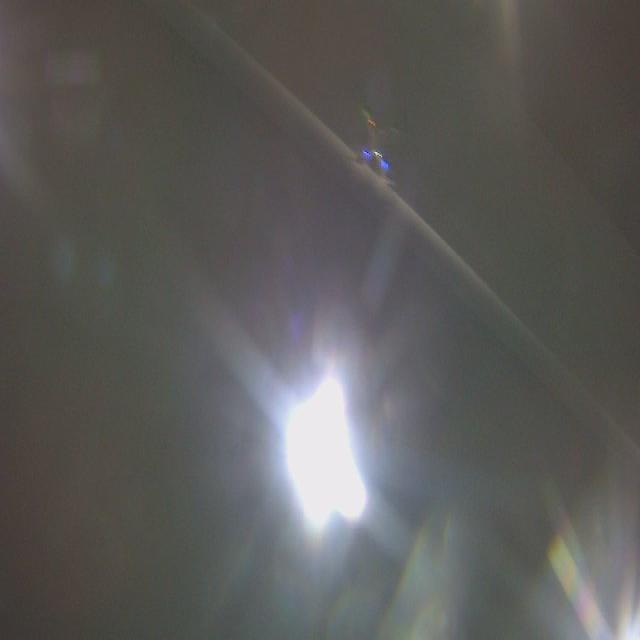drone: (344, 73, 408, 200)
